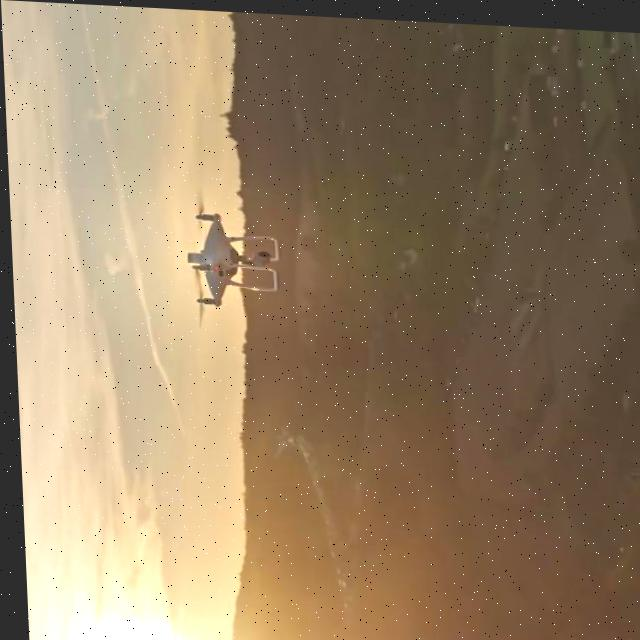drone: (179, 186, 279, 332)
